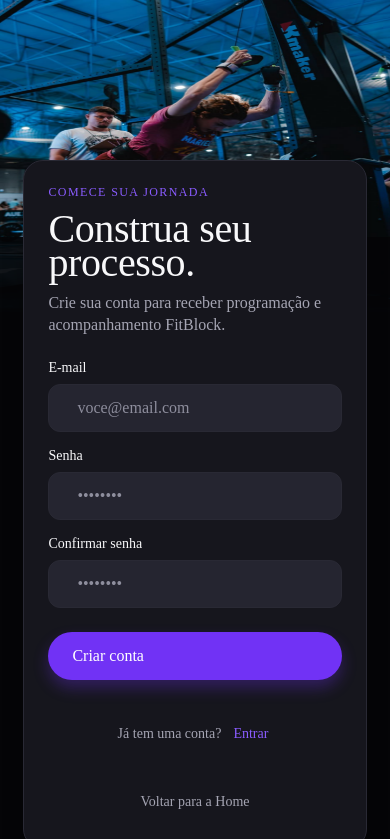
Test: AuthScreen › error handling and messaging › displays specific weak password error message
Type "athlete@fitblock.test" into the field with test id "auth-email" at [195, 408], box [65, 385, 325, 431]
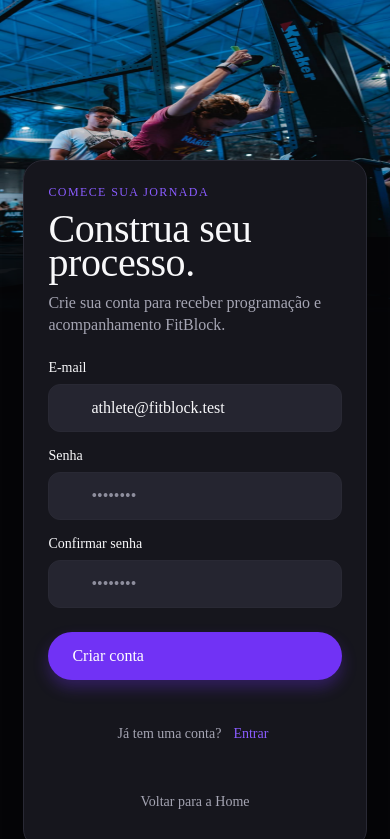
Type "short" into the password field with test id "auth-password" at [186, 496], box [79, 473, 293, 519]
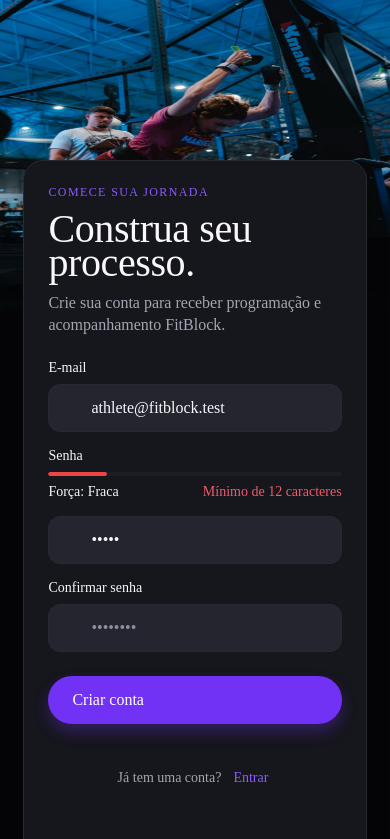
Type "short" into the password field with test id "auth-confirm-password" at [202, 628], box [79, 605, 325, 651]
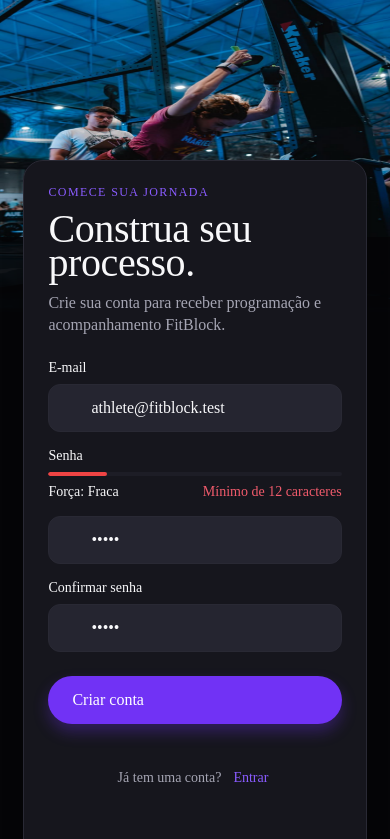
Click the button with test id "auth-submit" at [108, 700], box [48, 676, 342, 724]
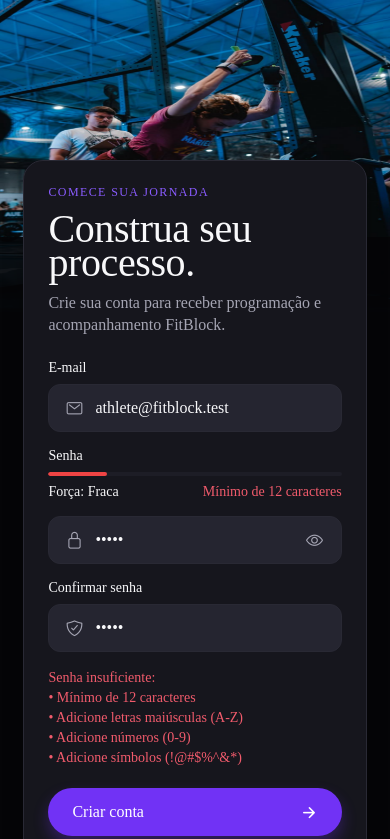
Expected: the text "Senha insuficiente:" is shown, [48, 670, 243, 765]
